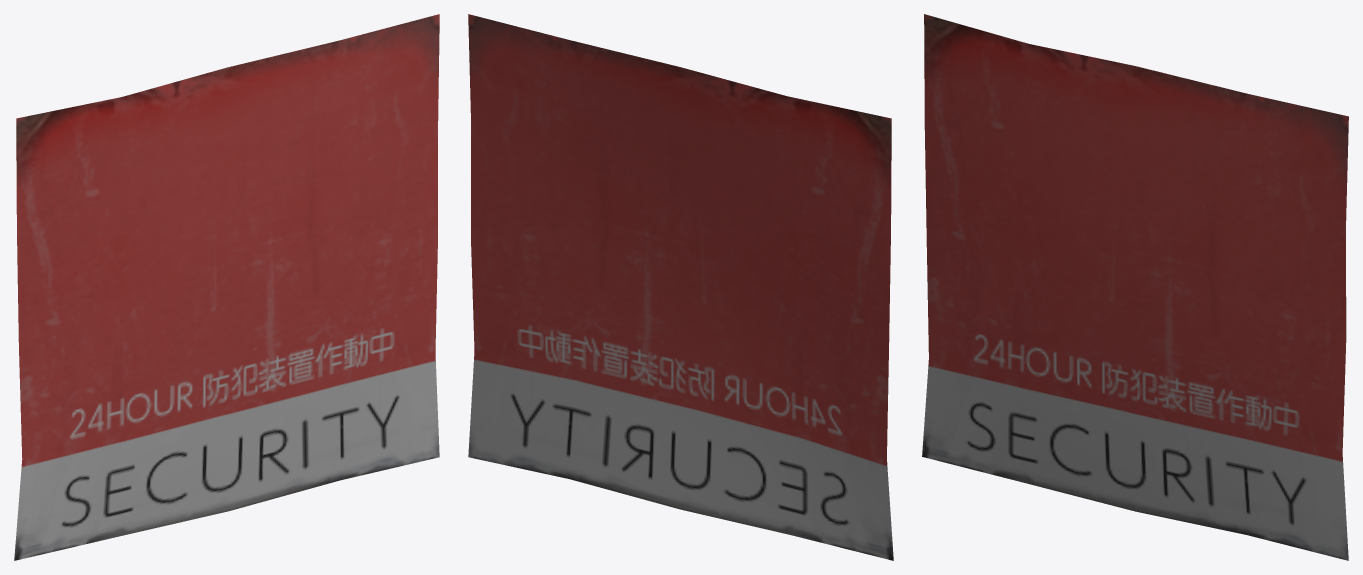
The model's file is posterI.fbx.
3 renders of one model, left to right at view 1: azimuth 30°, elevation 25°; view 2: azimuth 150°, elevation 25°; view 3: azimuth 330°, elevation 25°, orthographic.
Parts seen in each view (by area): view 1: posterI; view 2: posterI; view 3: posterI.
Part boxes in pixels (x1=…): posterI: x1=14, y1=14, x2=439, y2=560; posterI: x1=468, y1=14, x2=893, y2=560; posterI: x1=922, y1=14, x2=1348, y2=560.
Size of the model in its own units: 20.16 by 20.13 by 0.4513.
Materials: 1 (1 with a texture image).
